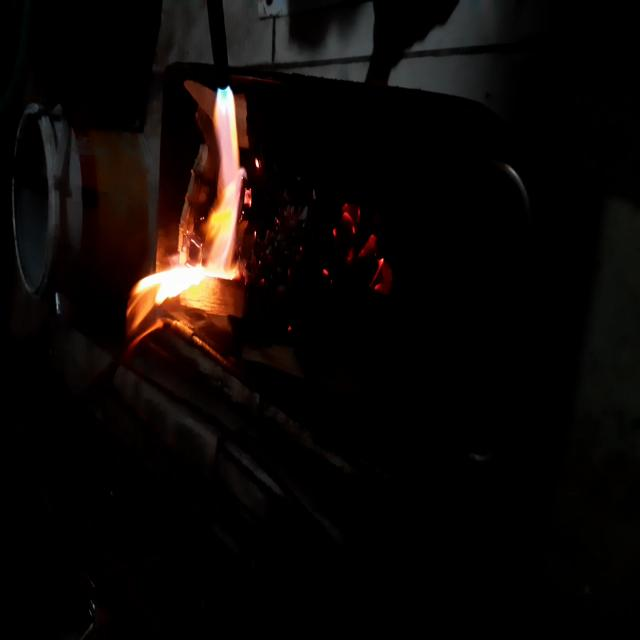Fire: (125, 71, 255, 376), (309, 174, 402, 321)
